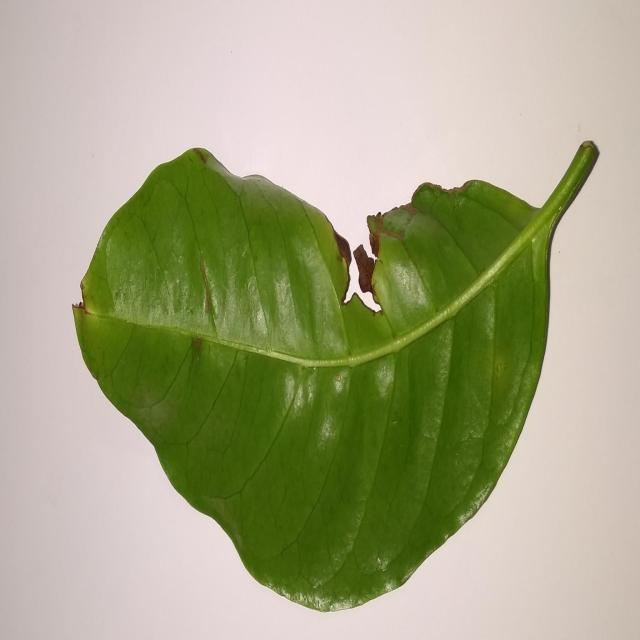Enfermedad-Antracnosis: (70, 141, 599, 616)
